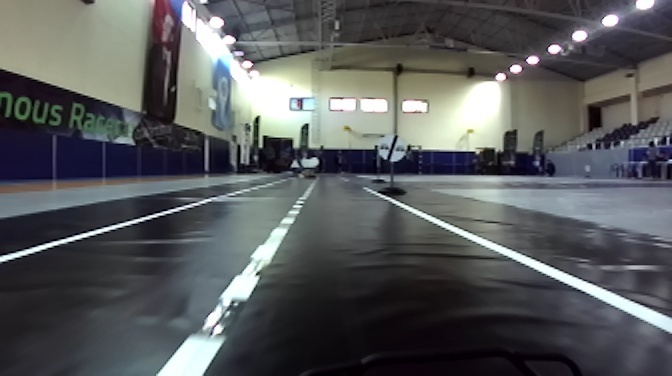sollama_serbest: (377, 133, 407, 163)
